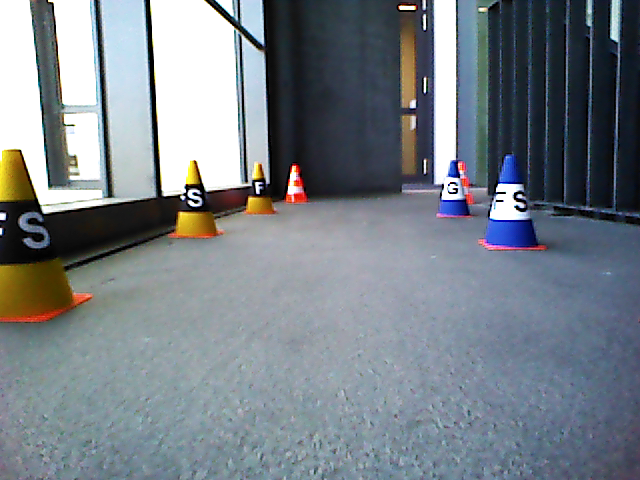bluecone: (485, 155, 533, 244), (439, 161, 467, 214)
orangeconesmall: (284, 164, 310, 203)
yellowcone: (1, 150, 67, 315), (175, 161, 214, 235), (248, 163, 272, 212)
